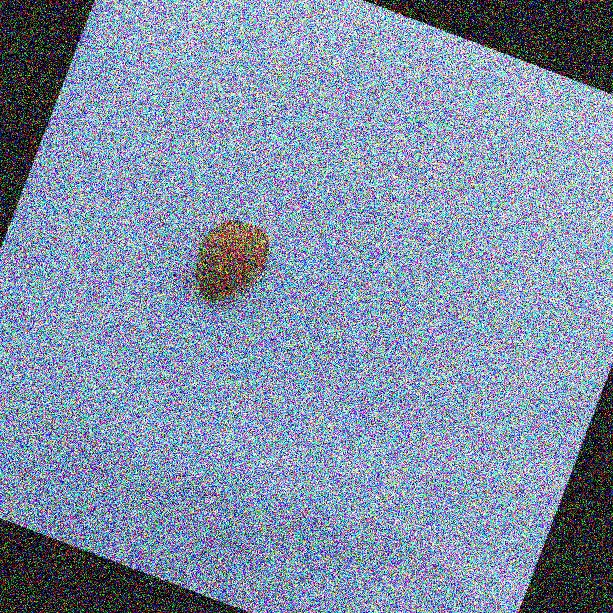grade2: (179, 206, 283, 319)
